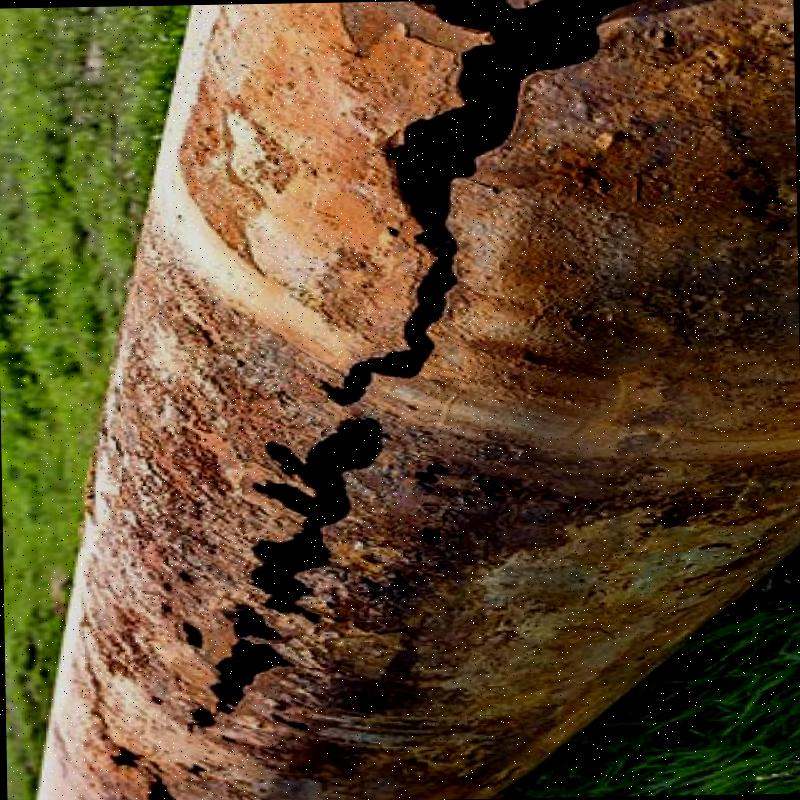Fracture: (168, 14, 660, 724)
